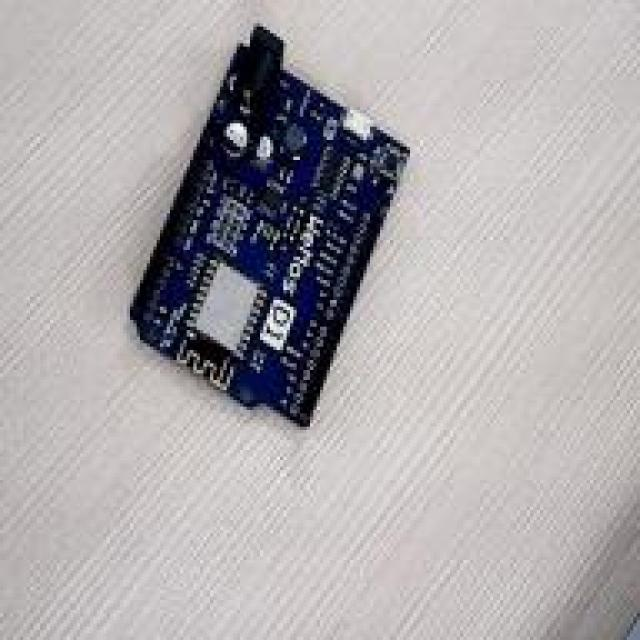Wemos: (131, 28, 408, 424)
